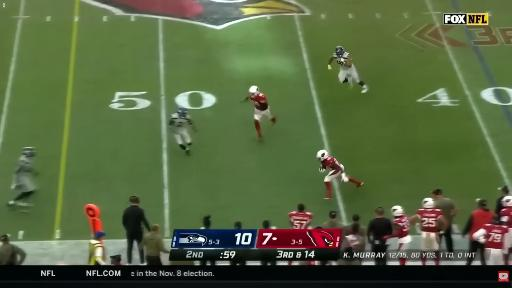Helmet: (22, 147, 36, 157), (317, 150, 329, 161), (422, 198, 434, 208), (391, 206, 403, 216), (502, 196, 511, 206), (335, 46, 344, 56), (178, 107, 188, 115), (249, 86, 258, 94)
Jersey: (482, 224, 508, 249), (417, 209, 442, 233), (288, 212, 313, 229), (15, 155, 34, 175), (393, 215, 409, 238), (322, 156, 343, 173), (249, 93, 268, 110), (169, 113, 191, 127), (499, 207, 512, 228), (333, 52, 349, 68)
Player: (410, 198, 447, 265), (317, 150, 363, 199), (328, 46, 367, 93), (473, 216, 510, 265), (243, 86, 276, 139), (8, 147, 36, 206), (383, 206, 411, 255), (169, 108, 196, 155), (288, 204, 313, 229), (500, 196, 511, 228), (500, 196, 511, 227)
